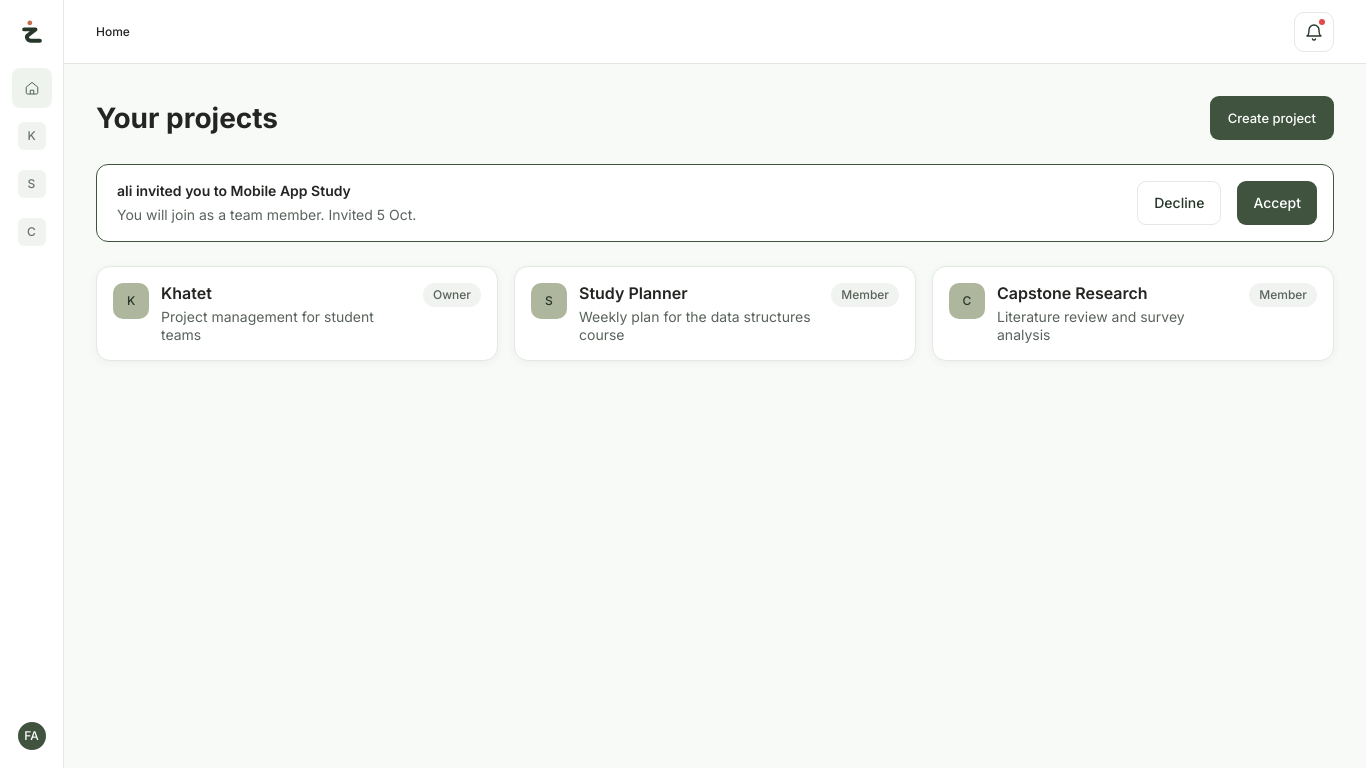
Test: sidebar › opens the sidebar on a project's pages from its rail tile
This screenshot has width=1366, height=768.
Click the button named "Khatet" at (32, 136), box x1=12 y1=116 x2=52 y2=156
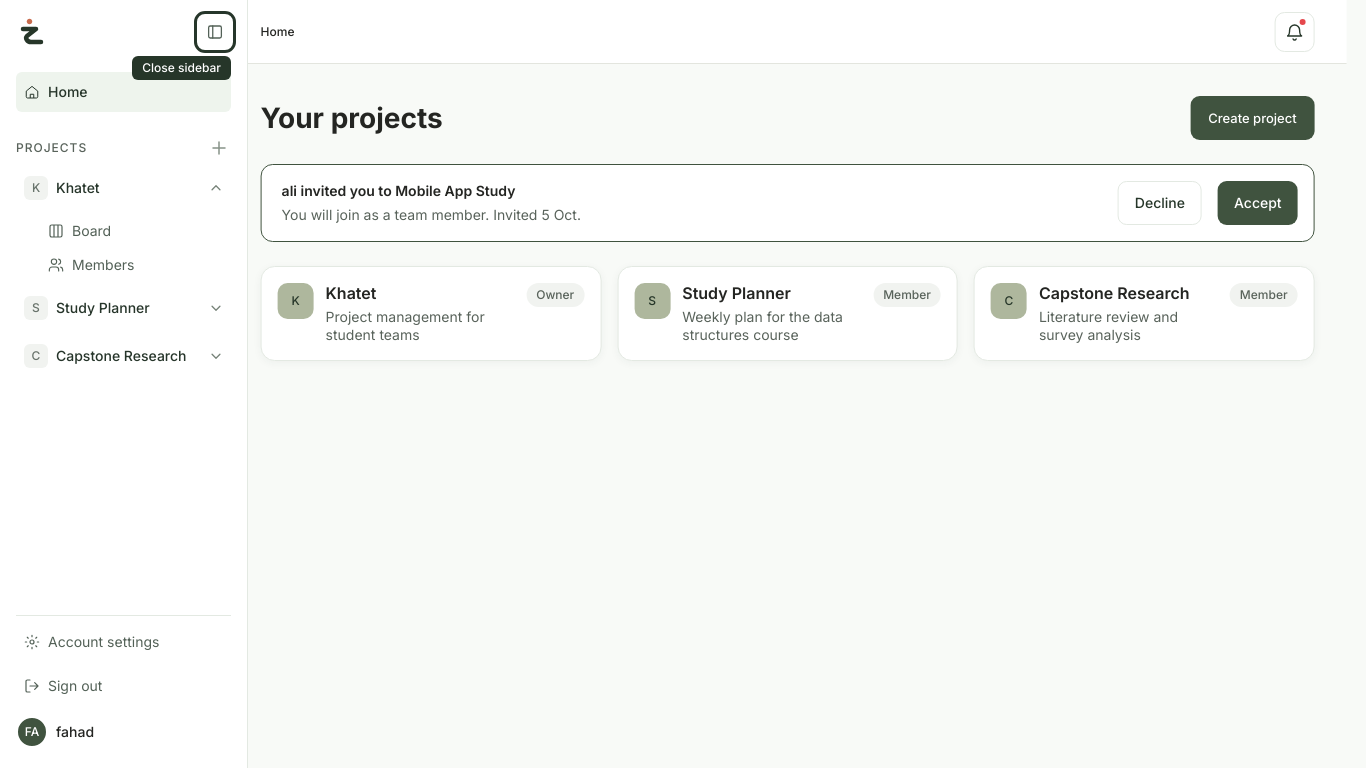
Expected: the button "K Khatet" is shown, x1=16 y1=168 x2=231 y2=208
